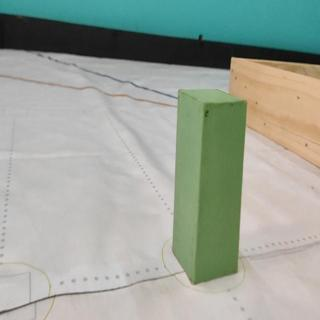greenbox: (171, 87, 248, 287)
